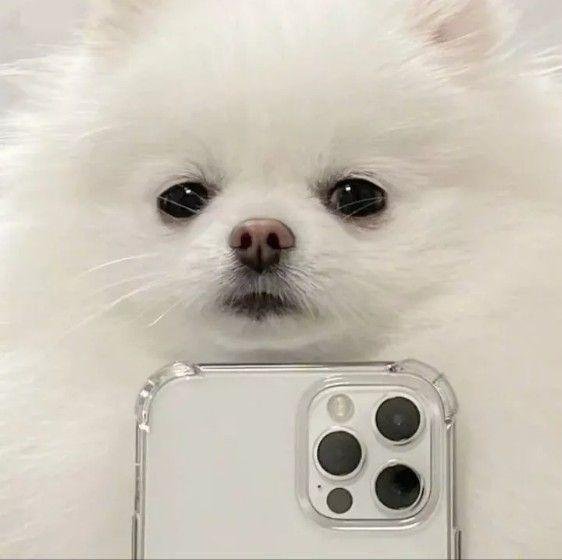adult_dog: (9, 5, 562, 555)
